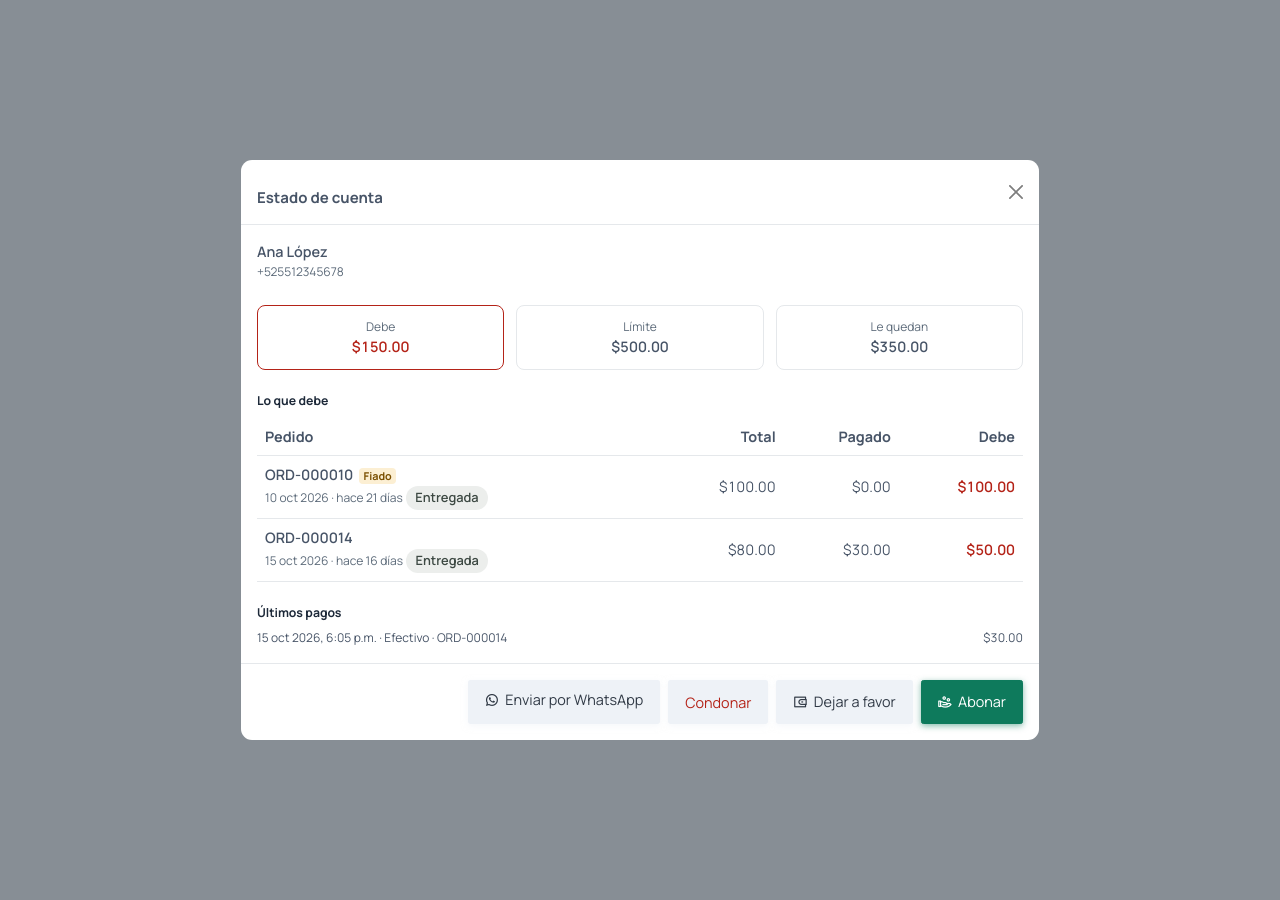
it: CustomerAccountModal › says nothing more once the reason is not a discount again
The image size is (1280, 900).
Click the button "Condonar" at (718, 702), box left=668, top=680, right=768, bottom=724
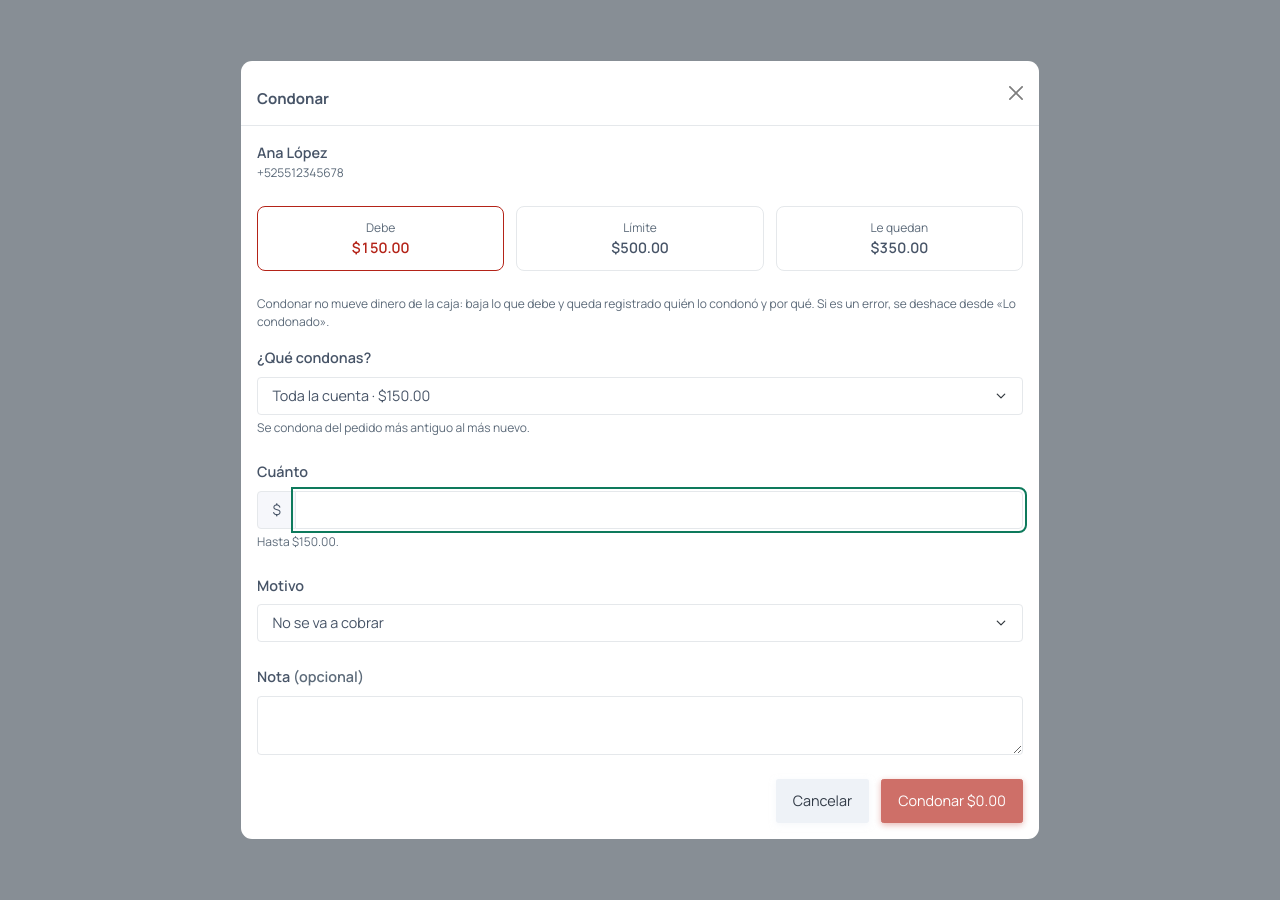
Select "Descuento o bonificación" in the dropdown labelled "Motivo" at (640, 623), box left=257, top=604, right=1023, bottom=642
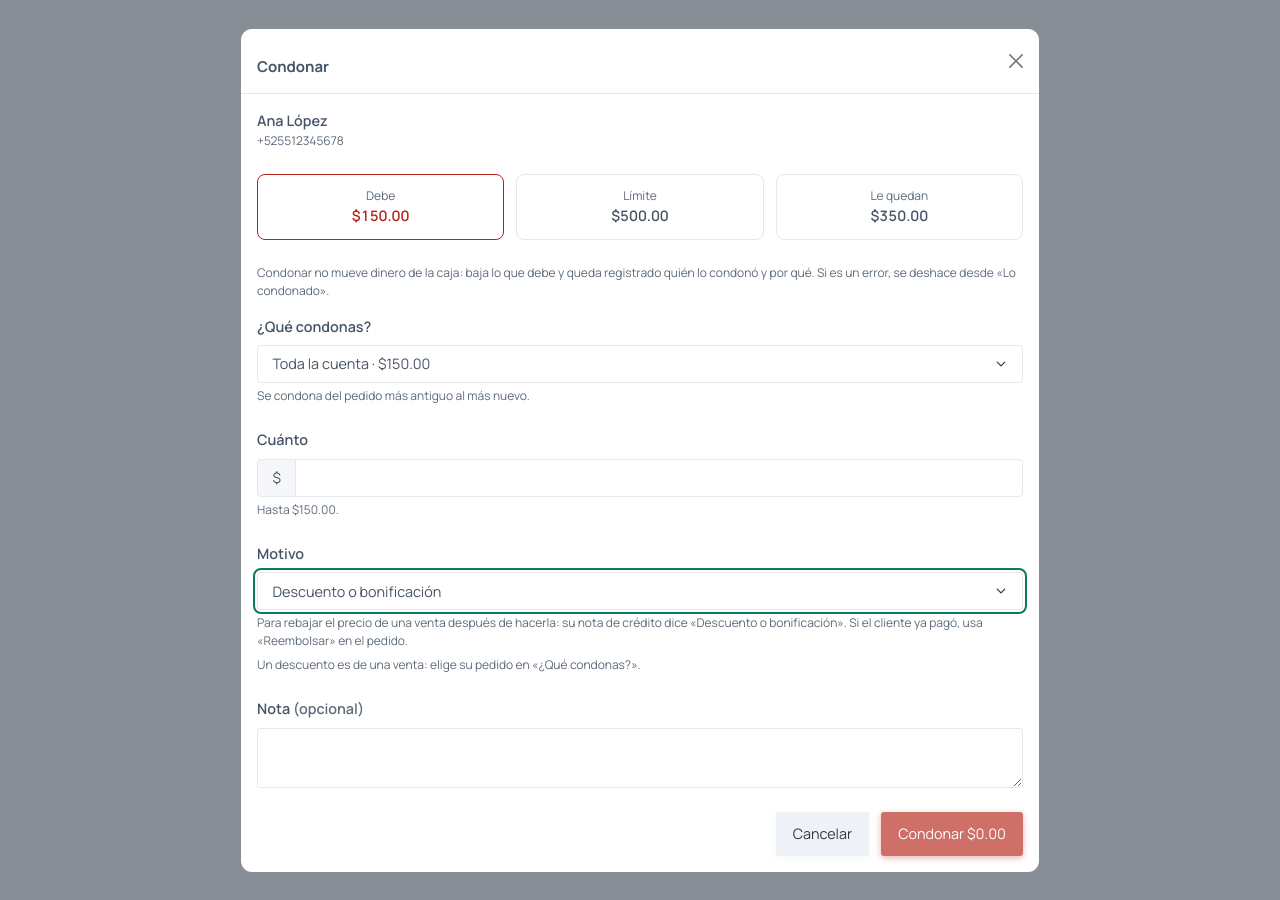
Expected: the text "Para rebajar el precio de una venta" is shown, left=257, top=614, right=983, bottom=650
Select "Cortesía" in the dropdown labelled "Motivo" at (640, 592), box left=257, top=572, right=1023, bottom=610
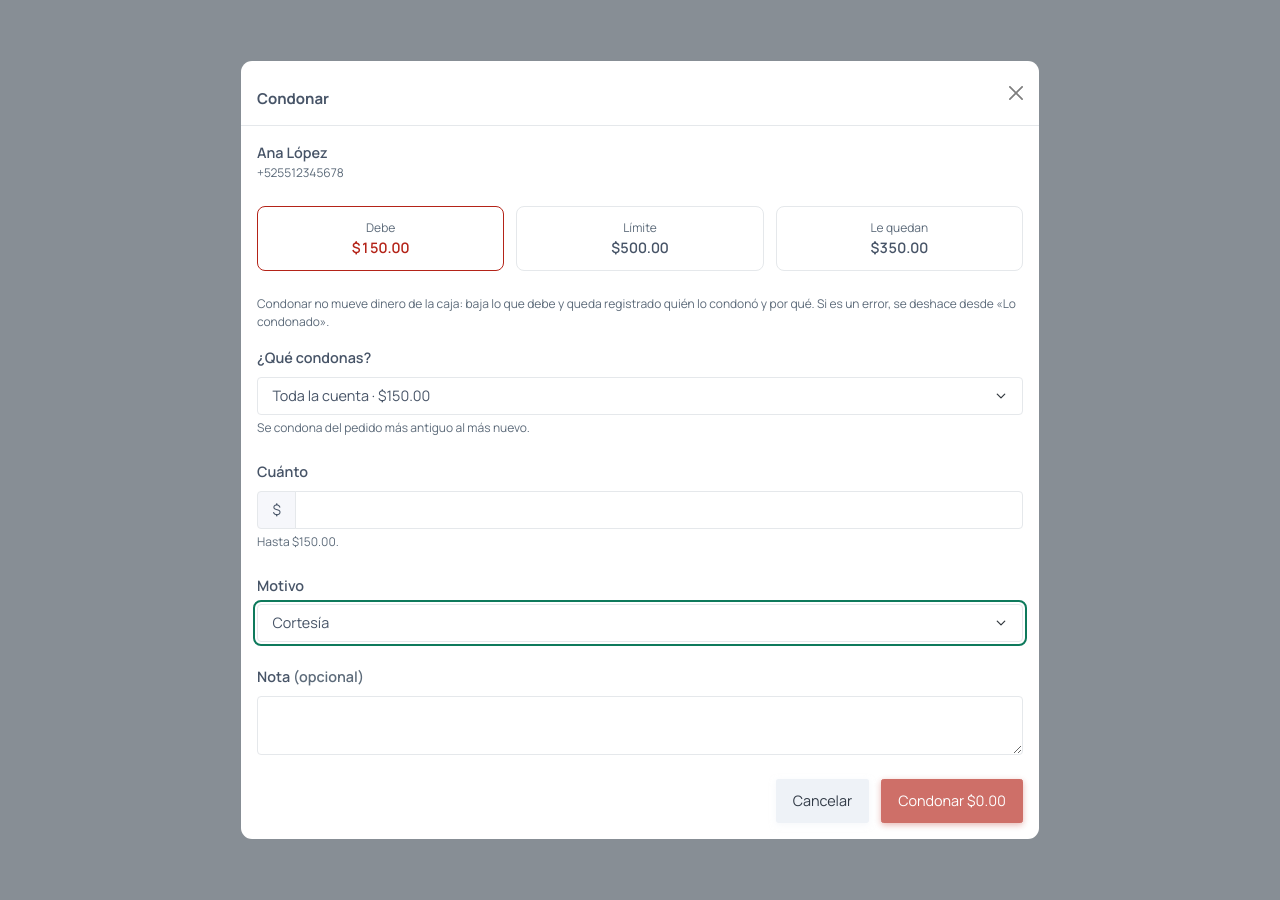
Expected: the text "Para rebajar el precio de una venta" is gone
